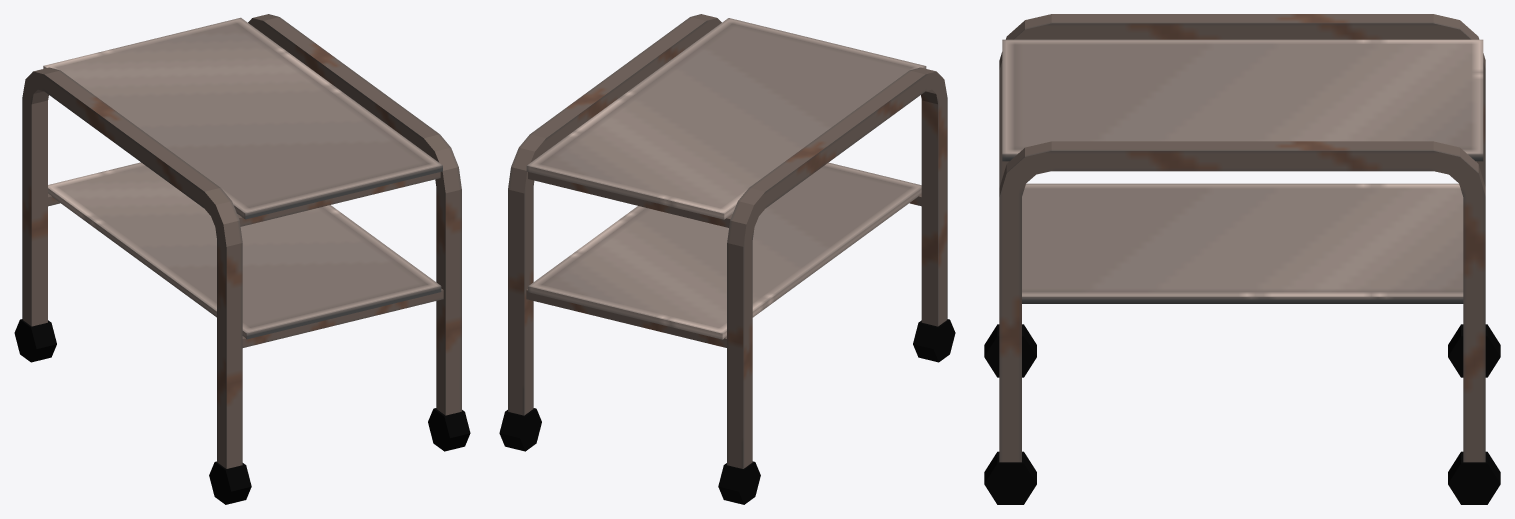
Rendered from obj_trolley.fbx.
3 views of the same model, side by side, from view 1: azimuth 30°, elevation 25°; view 2: azimuth 150°, elevation 25°; view 3: azimuth 270°, elevation 25° (orthographic). The views are drawn at different scales.
Parts seen in each view (by area): view 1: obj_trolley; view 2: obj_trolley; view 3: obj_trolley.
Boxes of the visible parts, x1,y1,x2,y2 form: obj_trolley: (14,14,470,504); obj_trolley: (499,14,955,504); obj_trolley: (984,14,1500,504).
Size of the model in its own units: 65.51 by 77.49 by 103.
